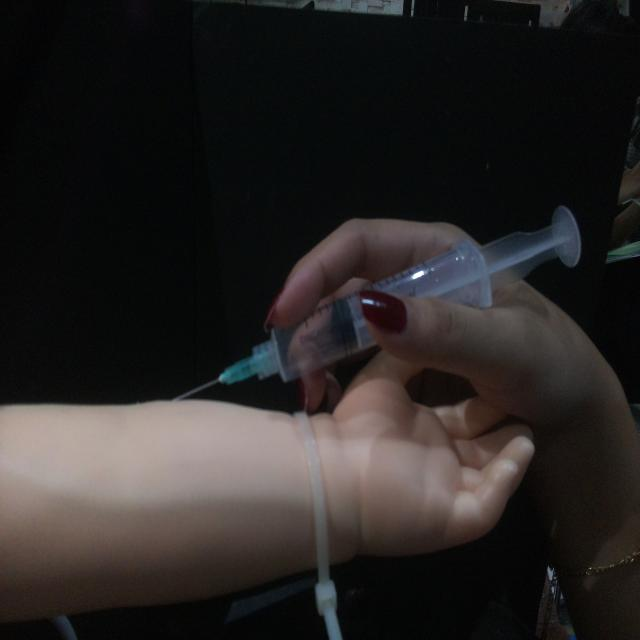17deg: (169, 201, 584, 404)
